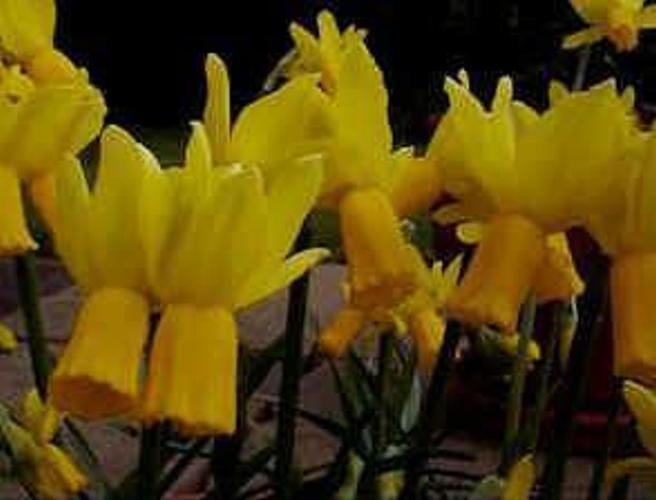flower1: (33, 137, 323, 430), (432, 67, 636, 319), (326, 182, 452, 358)
